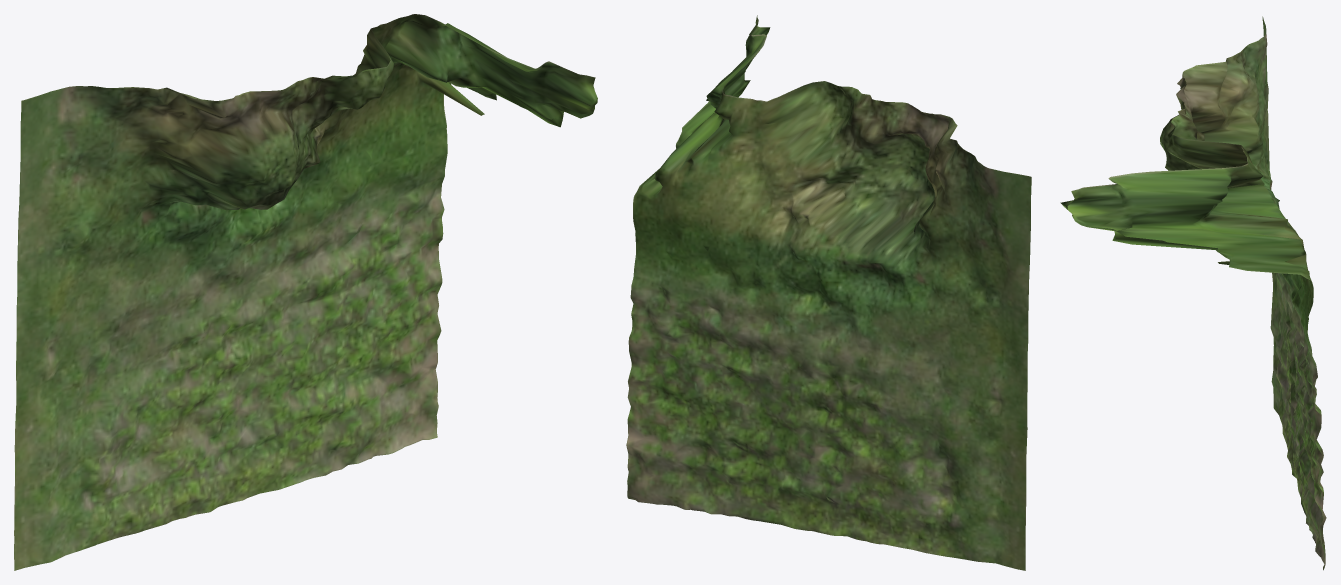
Rendered from map_260_90.obj.
3 renders of one model, left to right at view 1: azimuth 30°, elevation 25°; view 2: azimuth 150°, elevation 25°; view 3: azimuth 270°, elevation 25°, orthographic. The views are drawn at different scales.
Parts seen in each view (by area): view 1: map_260_90.obj; view 2: map_260_90.obj; view 3: map_260_90.obj.
Part boxes in pixels (bbox=[...]): map_260_90.obj: bbox=[14, 14, 597, 570]; map_260_90.obj: bbox=[626, 15, 1031, 570]; map_260_90.obj: bbox=[1060, 16, 1326, 570].
Bounding box in the file's own units: 10 × 10 × 6.35.
Materials: 1 (1 with a texture image).
